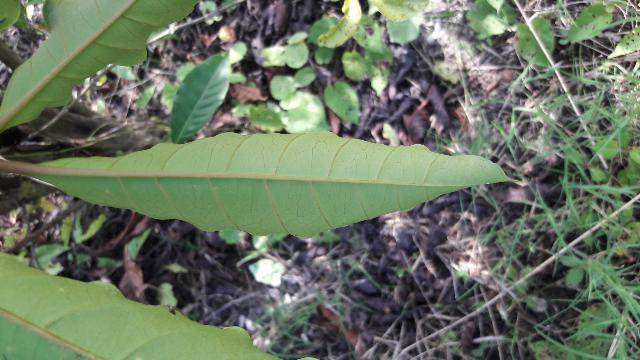healthy: (32, 129, 520, 237)
